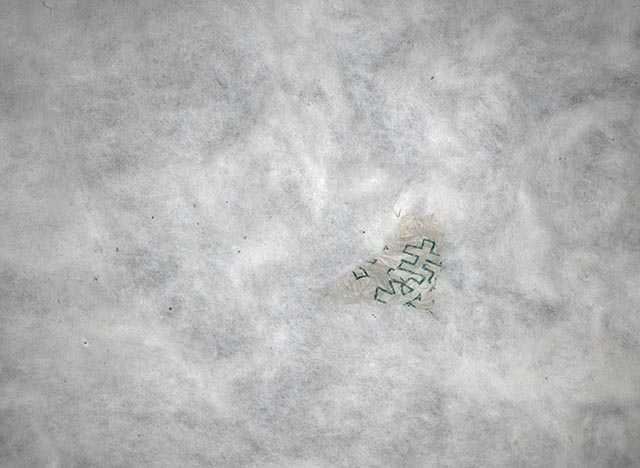plastic film: (324, 210, 445, 311)
